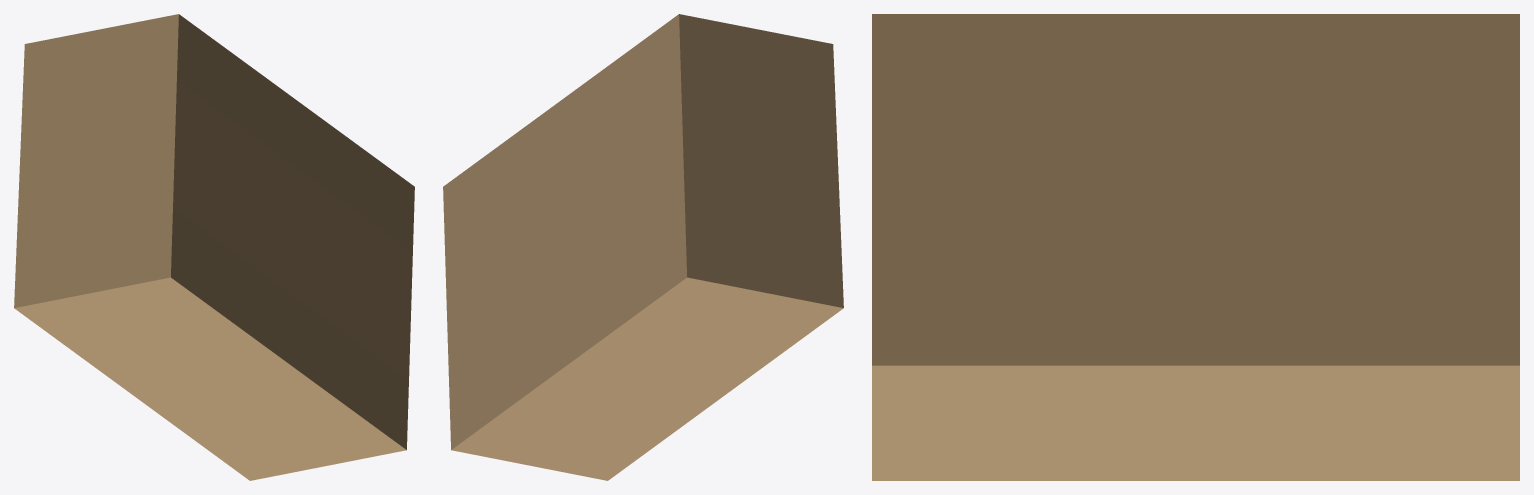
3 renders of one model, left to right at view 1: azimuth 30°, elevation 25°; view 2: azimuth 150°, elevation 25°; view 3: azimuth 270°, elevation 25°, orthographic. The views are drawn at different scales.
Parts seen in each view (by area): view 1: 0_2_1_3_0_0_2_3_0_0_2; view 2: 0_2_1_3_0_0_2_3_0_0_2; view 3: 0_2_1_3_0_0_2_3_0_0_2.
Part boxes in pixels (x1,y1,x2,y2): 0_2_1_3_0_0_2_3_0_0_2: (14, 14, 414, 480); 0_2_1_3_0_0_2_3_0_0_2: (443, 14, 843, 480); 0_2_1_3_0_0_2_3_0_0_2: (872, 14, 1519, 480).
Bounding box in the file's own units: 8.47 × 13.21 × 21.
